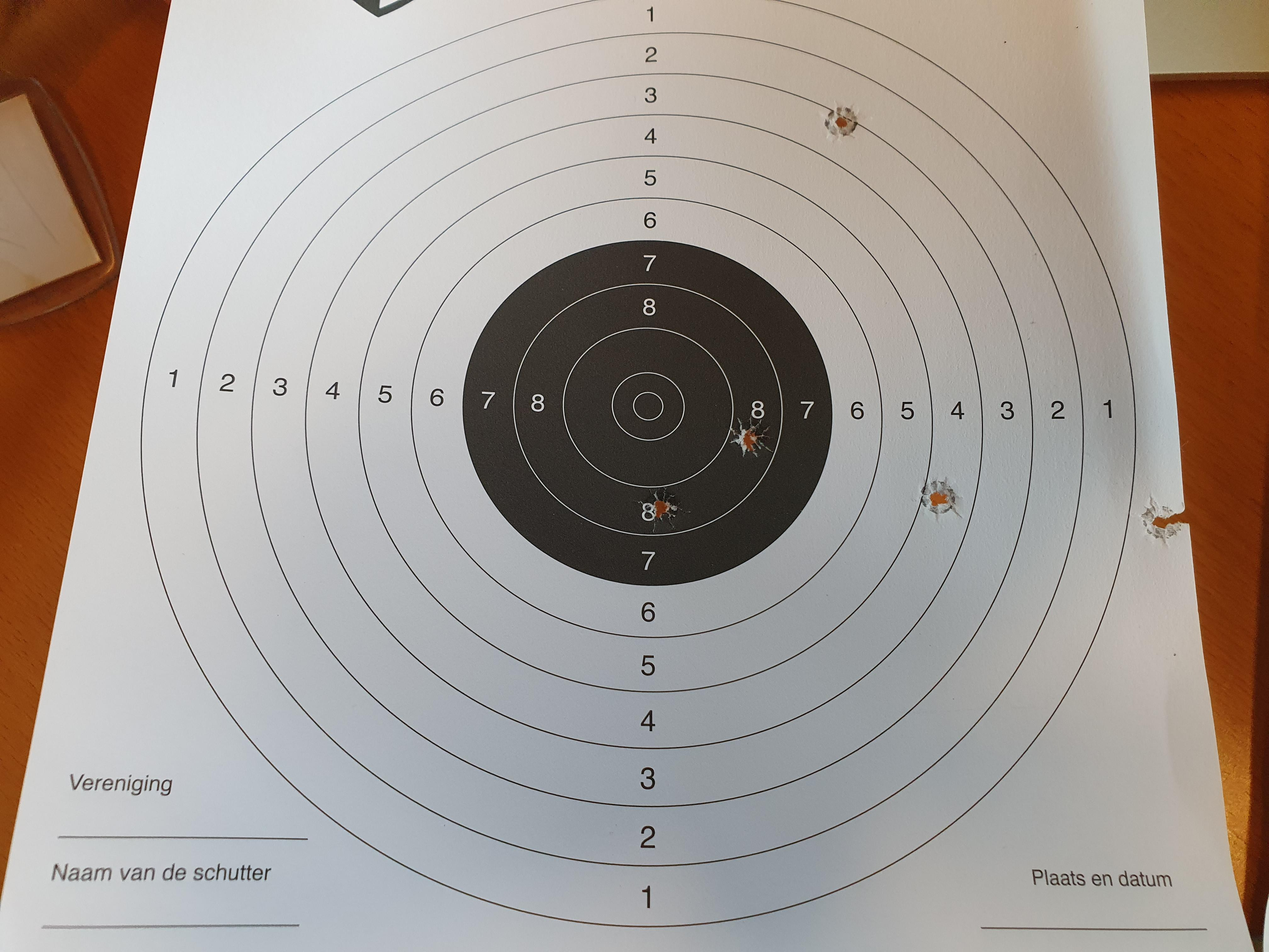hole: (557, 476, 620, 517), (574, 685, 638, 722), (545, 854, 602, 889), (658, 546, 713, 582), (1076, 616, 1130, 648)
